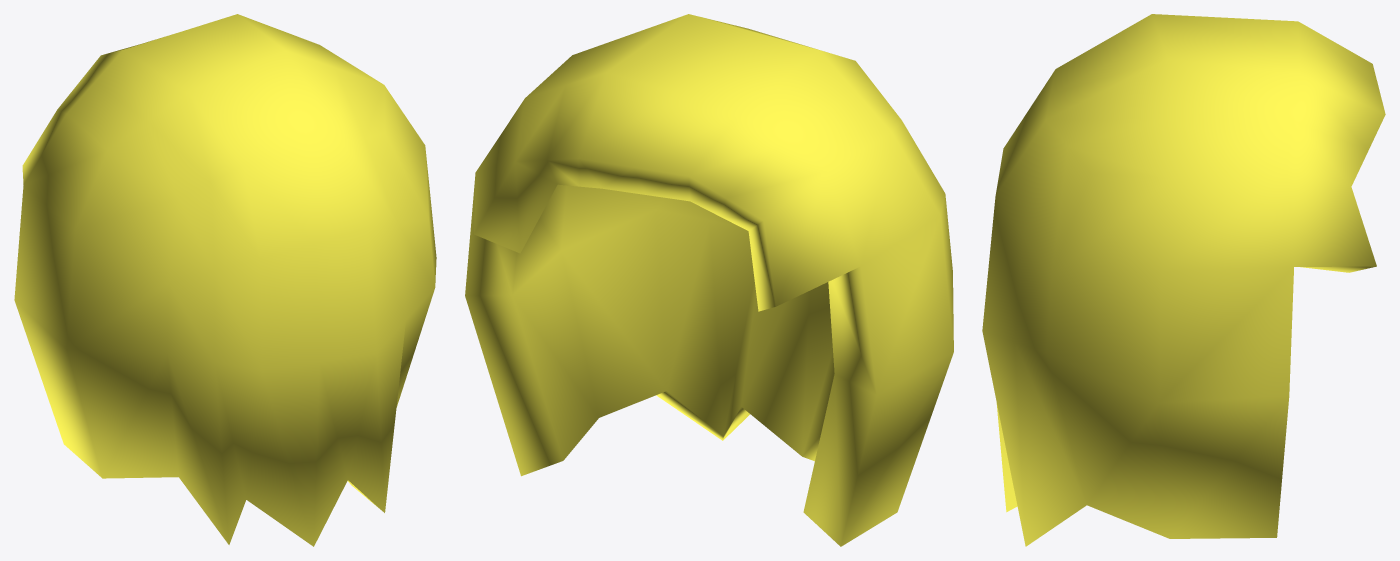
The model's file is Hair_Long_Blond.fbx.
3 views of the same model, side by side, from view 1: azimuth 30°, elevation 25°; view 2: azimuth 150°, elevation 25°; view 3: azimuth 270°, elevation 25° (orthographic). The views are drawn at different scales.
Parts seen in each view (by area): view 1: Hair_Long_Blond; view 2: Hair_Long_Blond; view 3: Hair_Long_Blond.
Boxes of the visible parts, box(x1,y1,x2,y2) form: Hair_Long_Blond: box(14, 14, 436, 546); Hair_Long_Blond: box(465, 14, 953, 546); Hair_Long_Blond: box(982, 14, 1385, 546).
Bounding box in the file's own units: 1.6 × 1.88 × 2.09.
